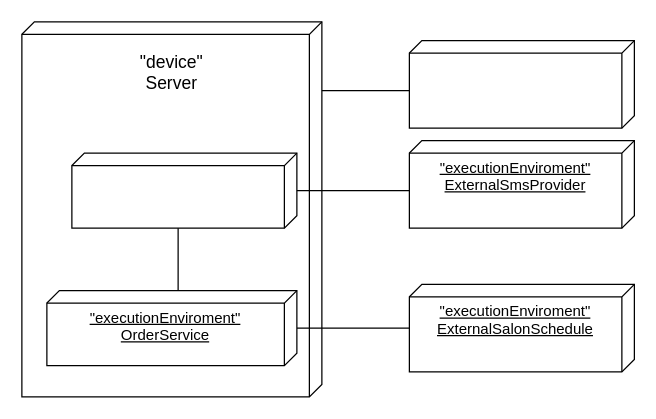
The diagram is 656 pixels wide and 419 high, and some of its shapes have lost their labels. Here are the shapes that lost their labels. From the top down, the box of each, then its label:
(408, 39, 634, 128): "device" AnalyticsService
(71, 152, 297, 228): "executionEnviroment" AuthorizationService
